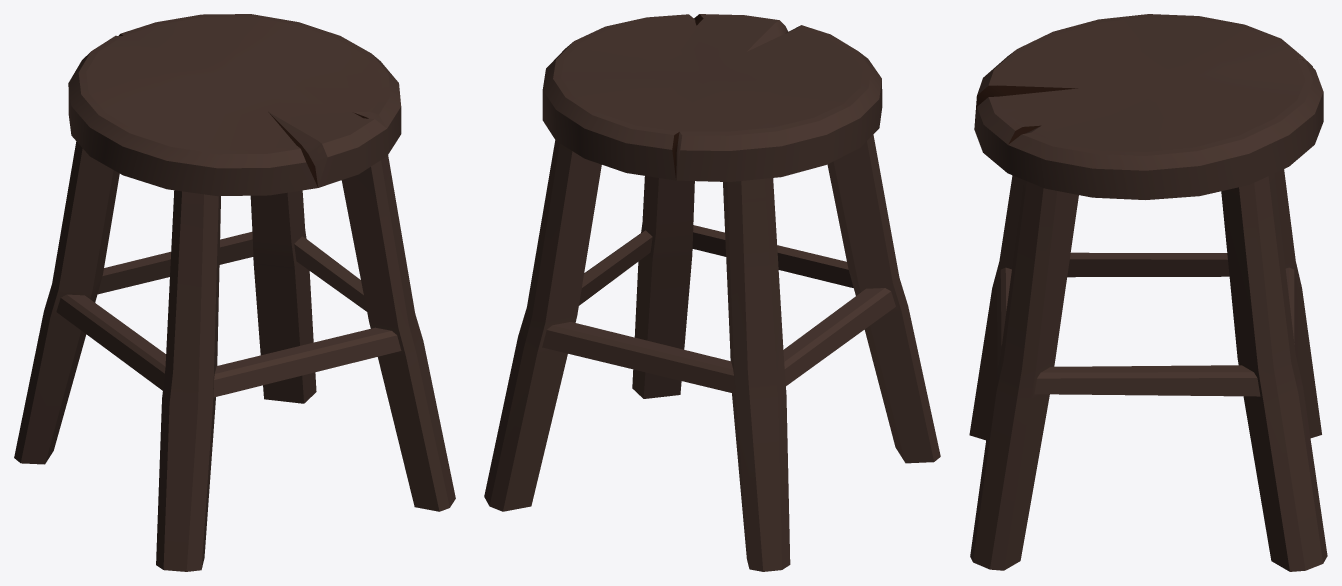
Rendered from stool01.fbx.
The picture shows the model from 3 angles, left to right: view 1: azimuth 30°, elevation 25°; view 2: azimuth 150°, elevation 25°; view 3: azimuth 270°, elevation 25°; orthographic projection. The views are drawn at different scales.
Parts seen in each view (by area): view 1: pCylinder1; view 2: pCylinder1; view 3: pCylinder1.
Boxes of the visible parts, x1,y1,x2,y2 form: pCylinder1: (14, 14, 455, 571); pCylinder1: (484, 14, 940, 571); pCylinder1: (969, 14, 1327, 571).
Size of the model in its own units: 8.26 by 10.62 by 8.26.
